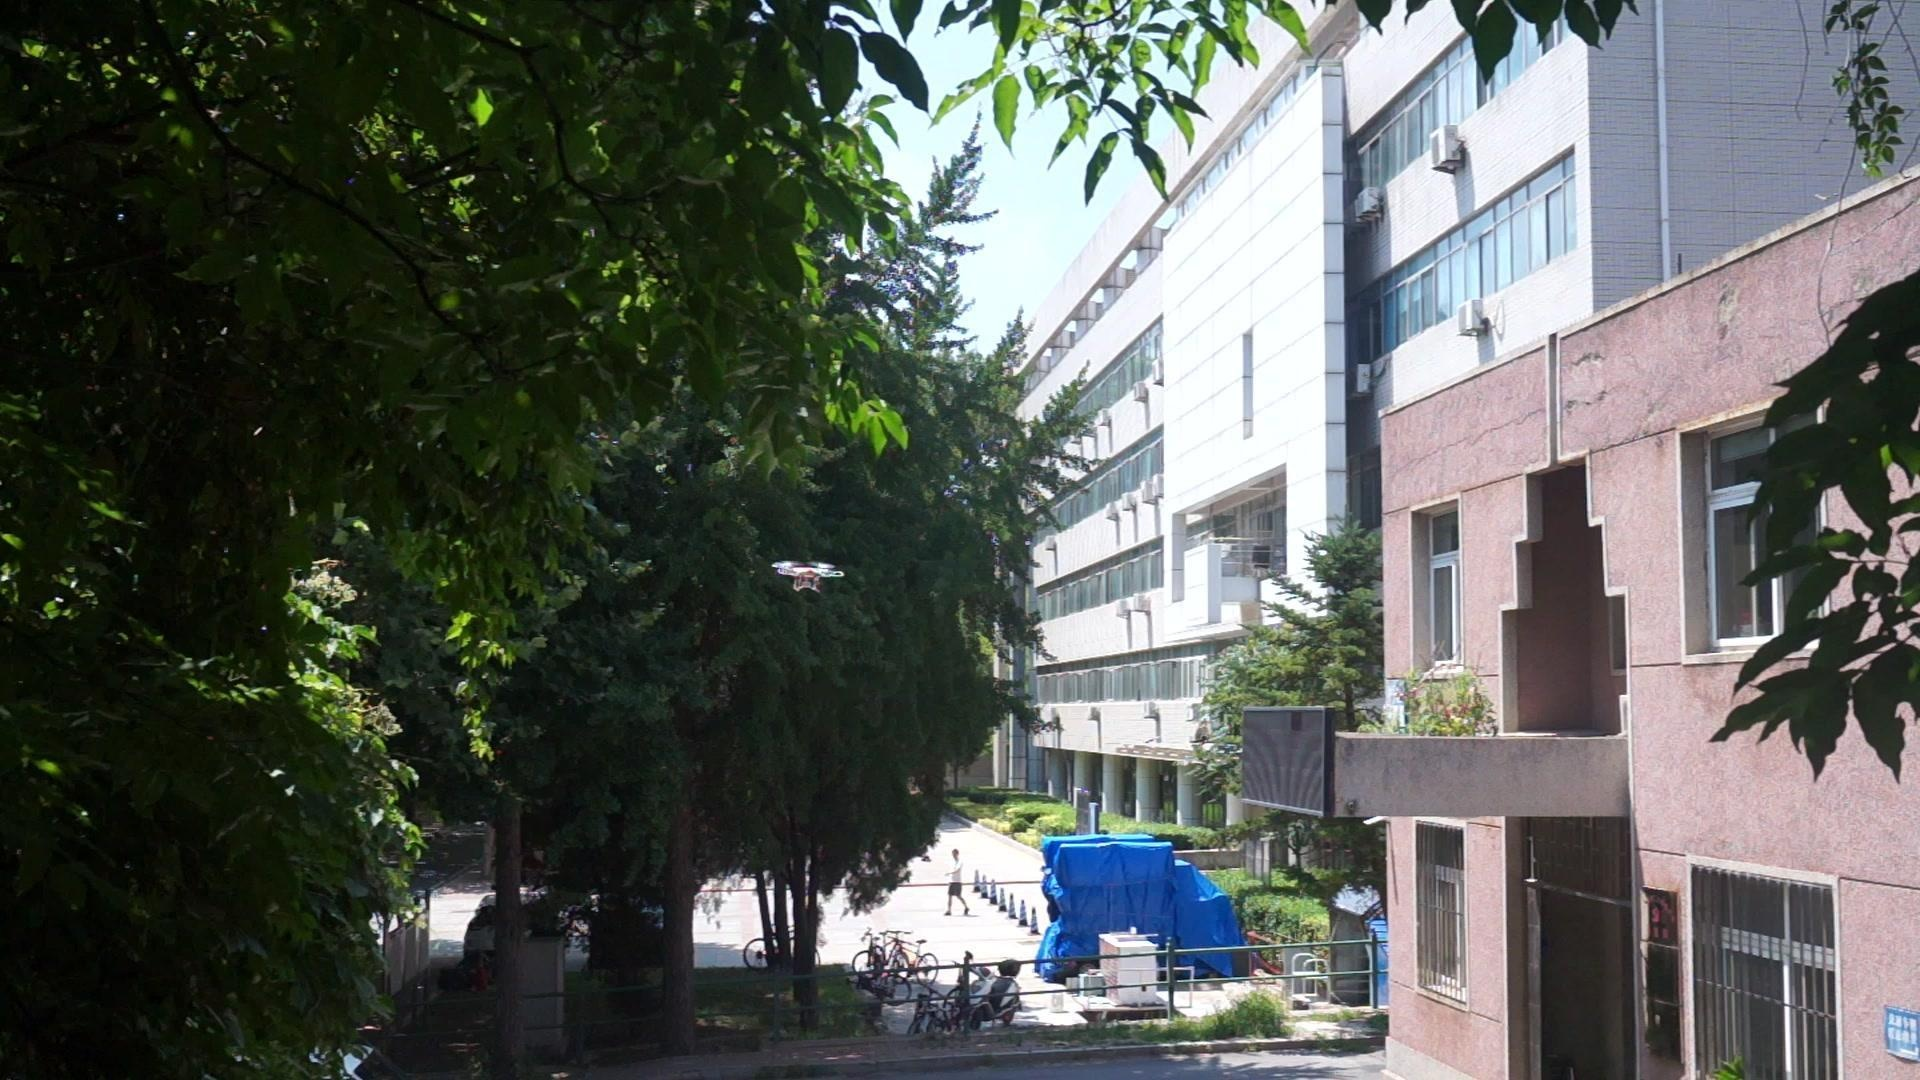UAV: (771, 560, 847, 593)
